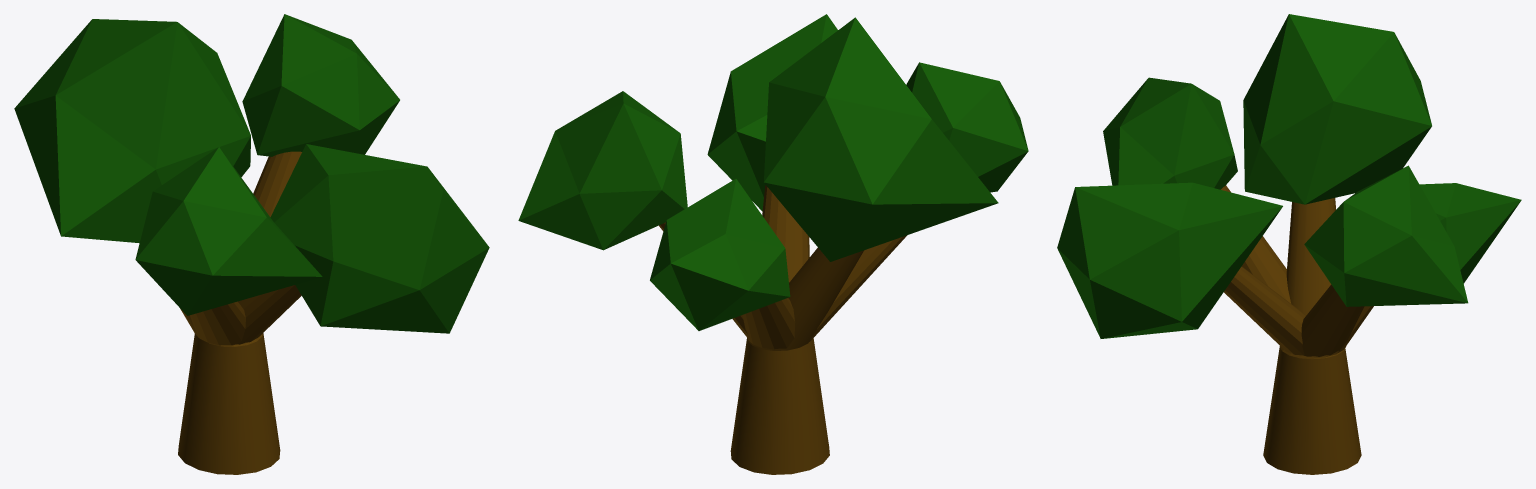
Rendered from Tree 3 (fixed).fbx.
The picture shows the model from 3 angles, left to right: view 1: azimuth 30°, elevation 25°; view 2: azimuth 150°, elevation 25°; view 3: azimuth 270°, elevation 25°; orthographic projection. The views are drawn at different scales.
Visible parts, largest first — view 1: Tree 3; view 2: Tree 3; view 3: Tree 3.
Part boxes in pixels (<box>): Tree 3: <box>14,14,489,474</box>; Tree 3: <box>518,14,1028,474</box>; Tree 3: <box>1057,14,1521,474</box>.
Bounding box in the file's own units: 617 × 711 × 697.
